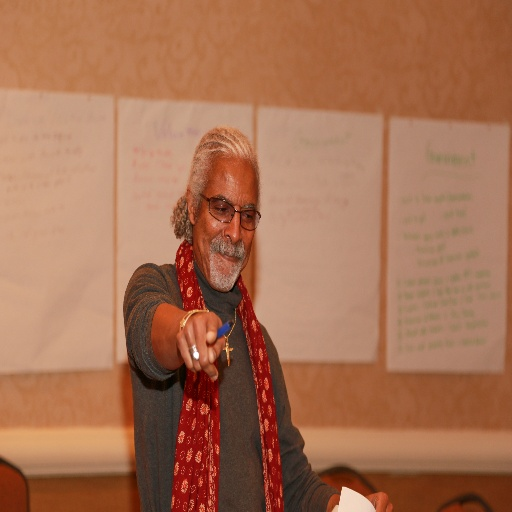hand: (174, 308, 227, 384), (364, 489, 395, 511)
